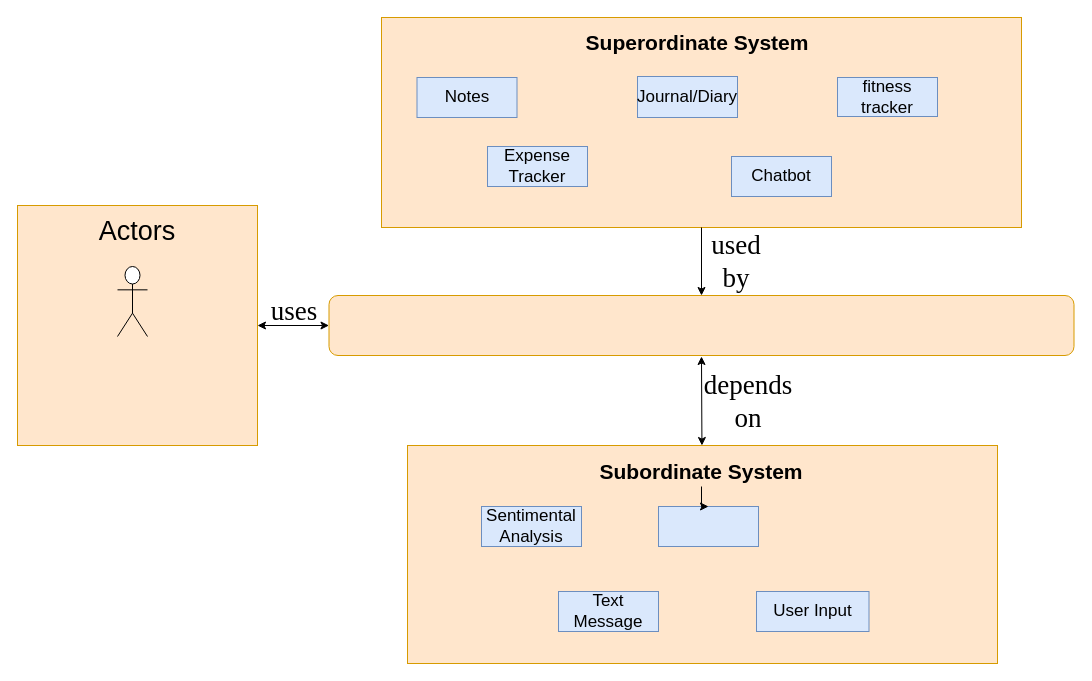
This 1092x681 diagram has some shape labels left out. The shapes that lost their labels are listed below. From the top down, each one's box as (x1, y1, x2, y2) in pixels, then its label:
(116, 266, 148, 336): User
(328, 294, 1074, 356): Persona
(658, 506, 758, 546): Phone Sensors
